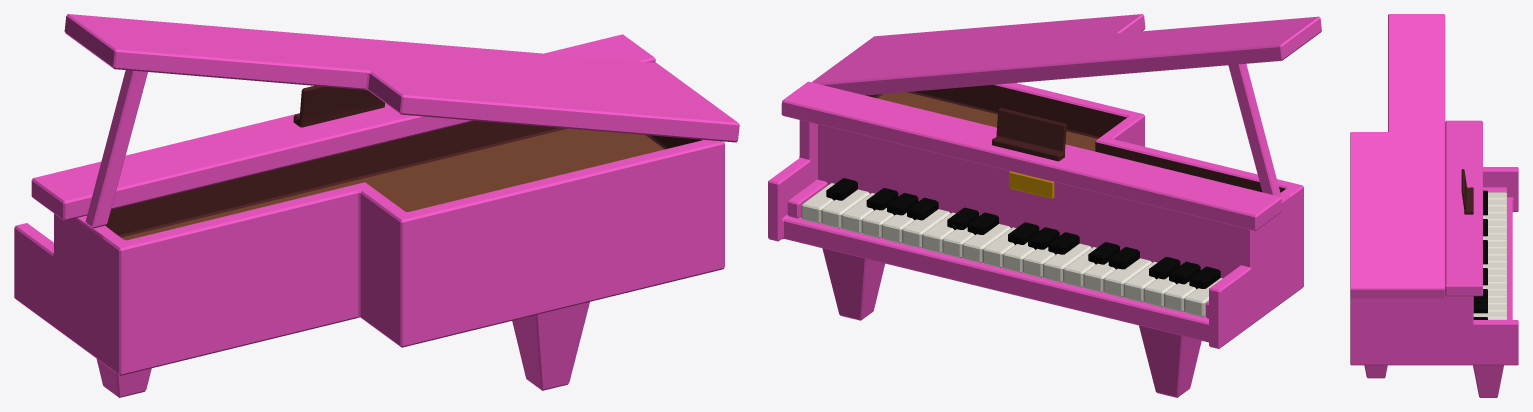
Rendered from piano.gltf.
3 renders of one model, left to right at view 1: azimuth 30°, elevation 25°; view 2: azimuth 150°, elevation 25°; view 3: azimuth 270°, elevation 25°, orthographic. The views are drawn at different scales.
Visible parts, largest first — view 1: Piano; view 2: Piano; view 3: Piano.
Part boxes in pixels (x1,y1,x2,y2): Piano: (14, 14, 739, 397); Piano: (768, 14, 1321, 397); Piano: (1350, 14, 1518, 397).
Size of the model in its own units: 3.13 by 2.15 by 1.35.
